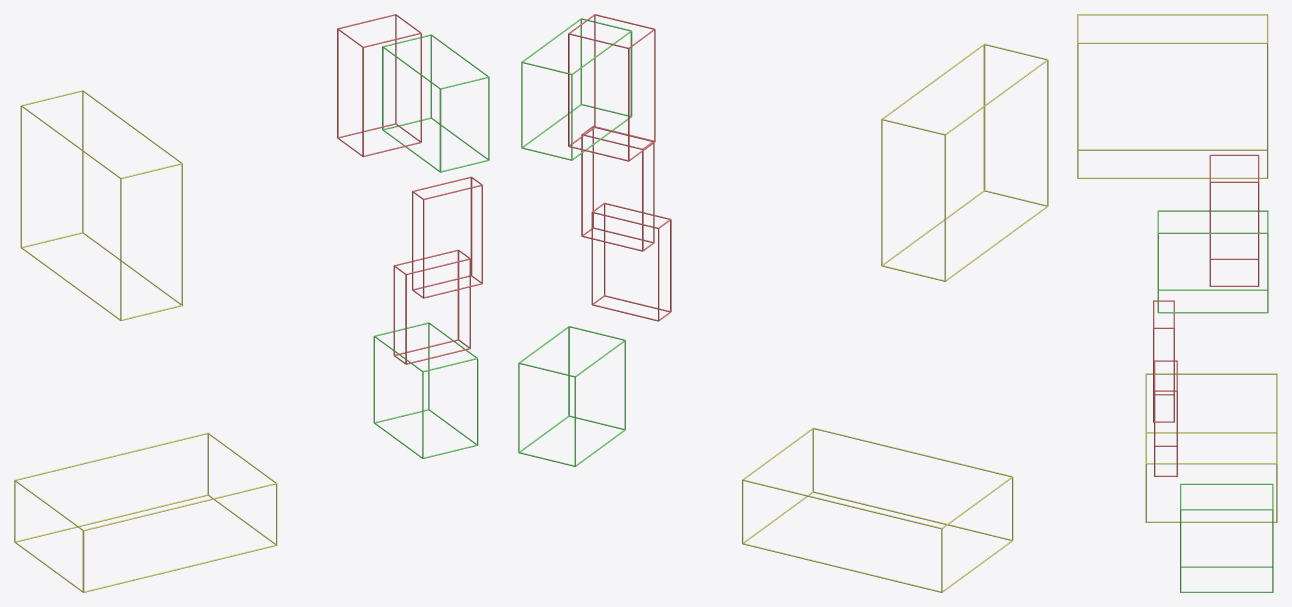
The picture shows the model from 3 angles, left to right: view 1: azimuth 30°, elevation 25°; view 2: azimuth 150°, elevation 25°; view 3: azimuth 270°, elevation 25°; orthographic projection. The views are drawn at different scales.
Visible parts, largest first — view 1: world; view 2: world; view 3: world.
Boxes of the visible parts, x1,y1,x2,y2 form: world: [14, 14, 489, 592]; world: [518, 14, 1048, 592]; world: [1077, 14, 1277, 592].
Bounding box in the file's own units: 3.42 × 3.52 × 1.5.
